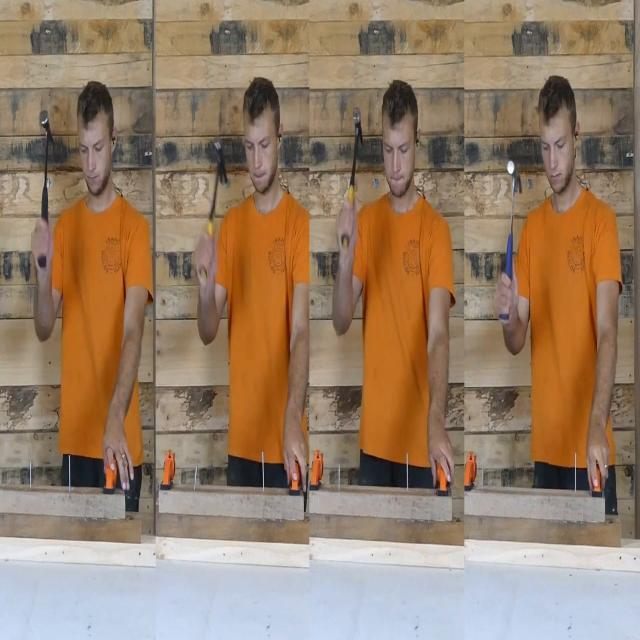hammer: (199, 141, 227, 283), (500, 160, 521, 324), (342, 108, 364, 249), (39, 116, 53, 270)
